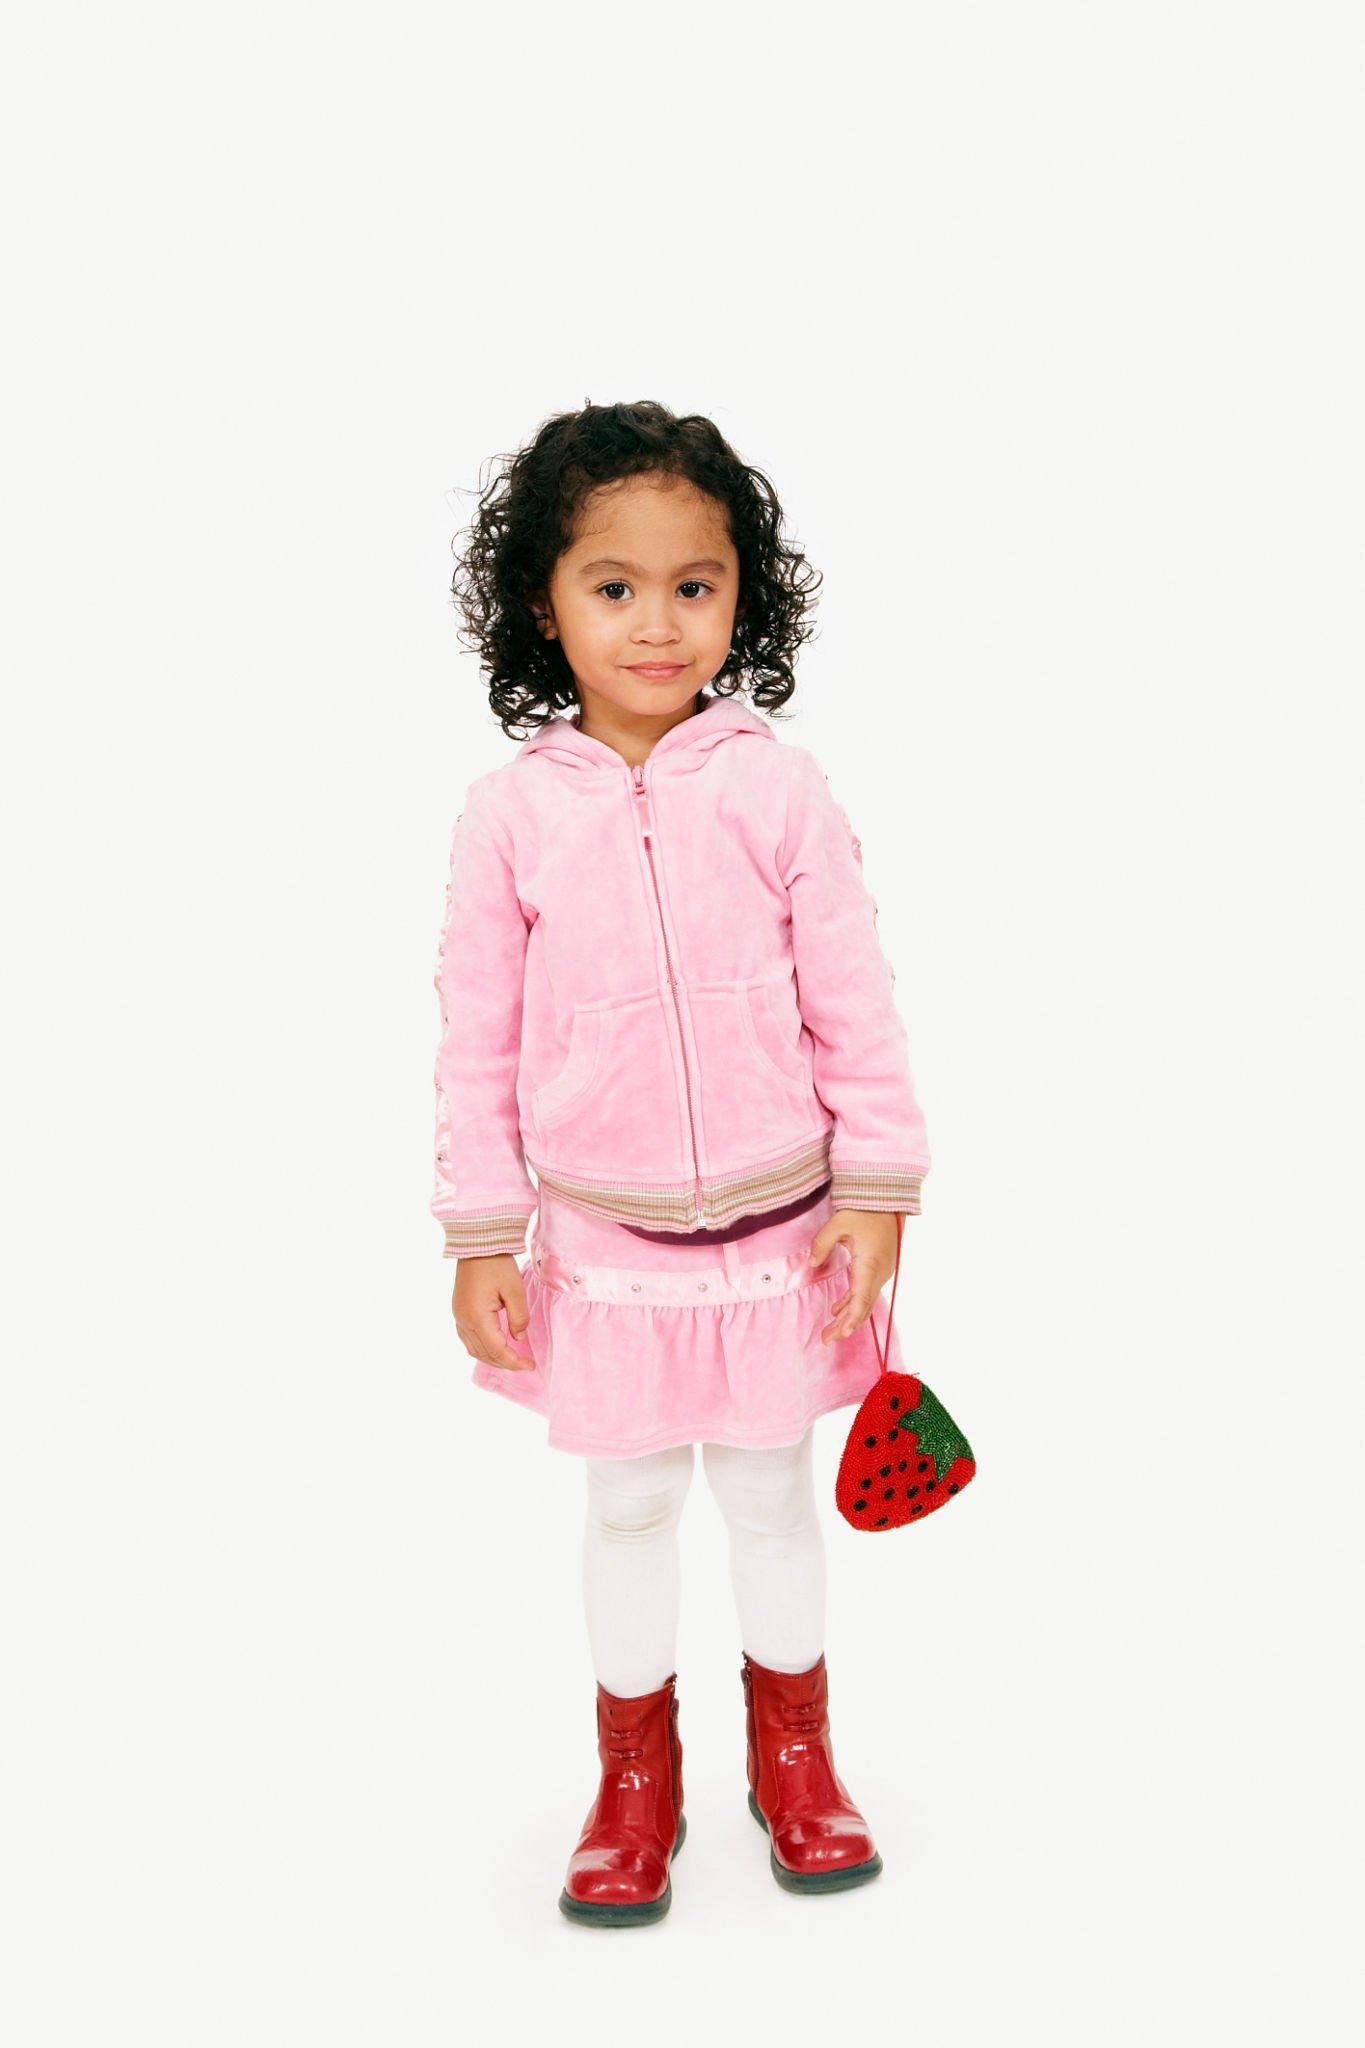Healthy: (457, 411, 820, 766)
